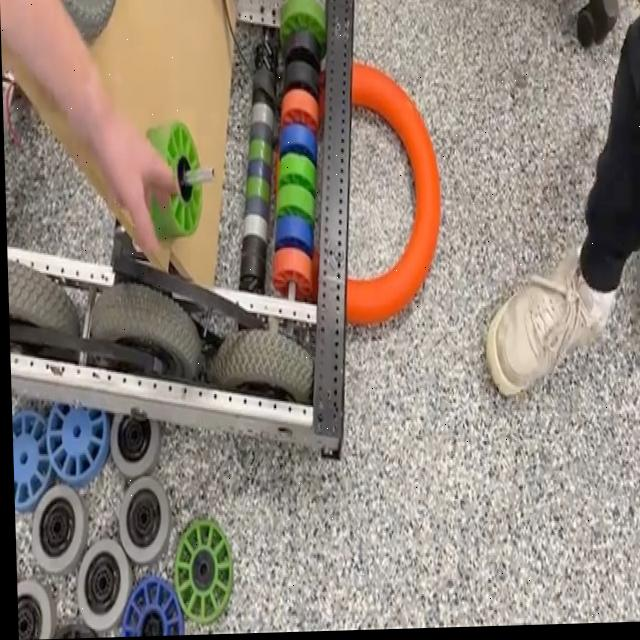note: (263, 56, 444, 335)
